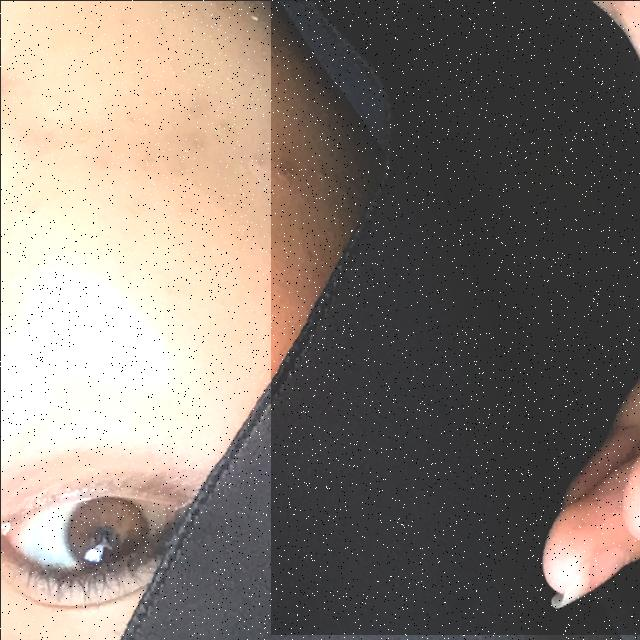mendengar: (270, 0, 640, 634)
